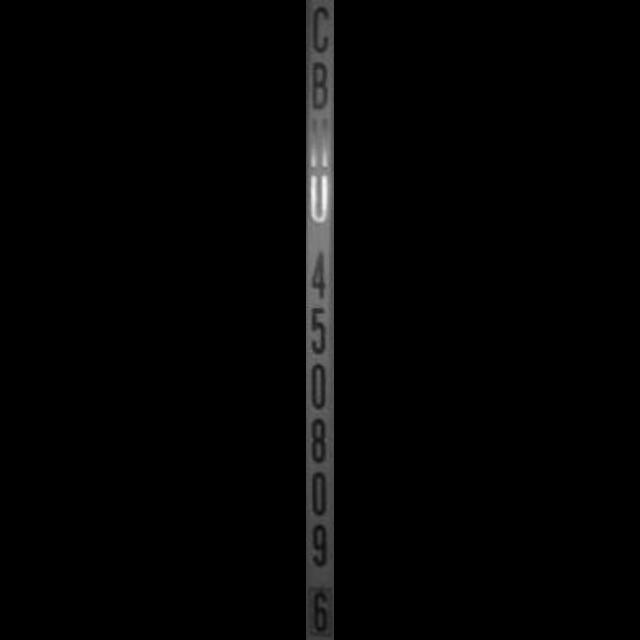0: (306, 358, 334, 410), (306, 466, 334, 516)
4: (306, 240, 334, 304)
5: (306, 300, 334, 360)
6: (306, 580, 334, 640)
8: (306, 414, 334, 466)
9: (306, 515, 334, 571)
b: (306, 48, 334, 116)
c: (306, 0, 334, 64)
m: (306, 108, 334, 172)
u: (306, 168, 334, 232)
